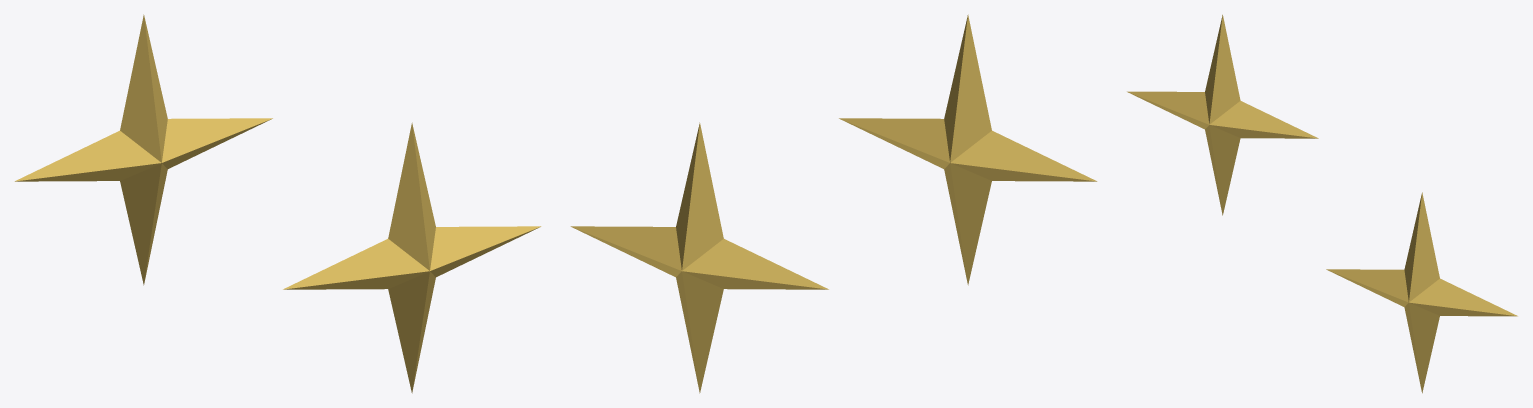
Rendered from stars.obj.
3 renders of one model, left to right at view 1: azimuth 30°, elevation 25°; view 2: azimuth 150°, elevation 25°; view 3: azimuth 330°, elevation 25°, orthographic. The views are drawn at different scales.
Visible parts, largest first — view 1: 立方体.1; view 2: 立方体.1; view 3: 立方体.1.
Boxes of the visible parts, x1,y1,x2,y2 form: 立方体.1: [14, 14, 541, 393]; 立方体.1: [570, 14, 1097, 393]; 立方体.1: [1127, 14, 1517, 393].
Size of the model in its own units: 8.13 by 6.55 by 0.9566.
